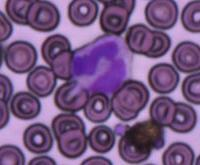N: (70, 33, 132, 96)
